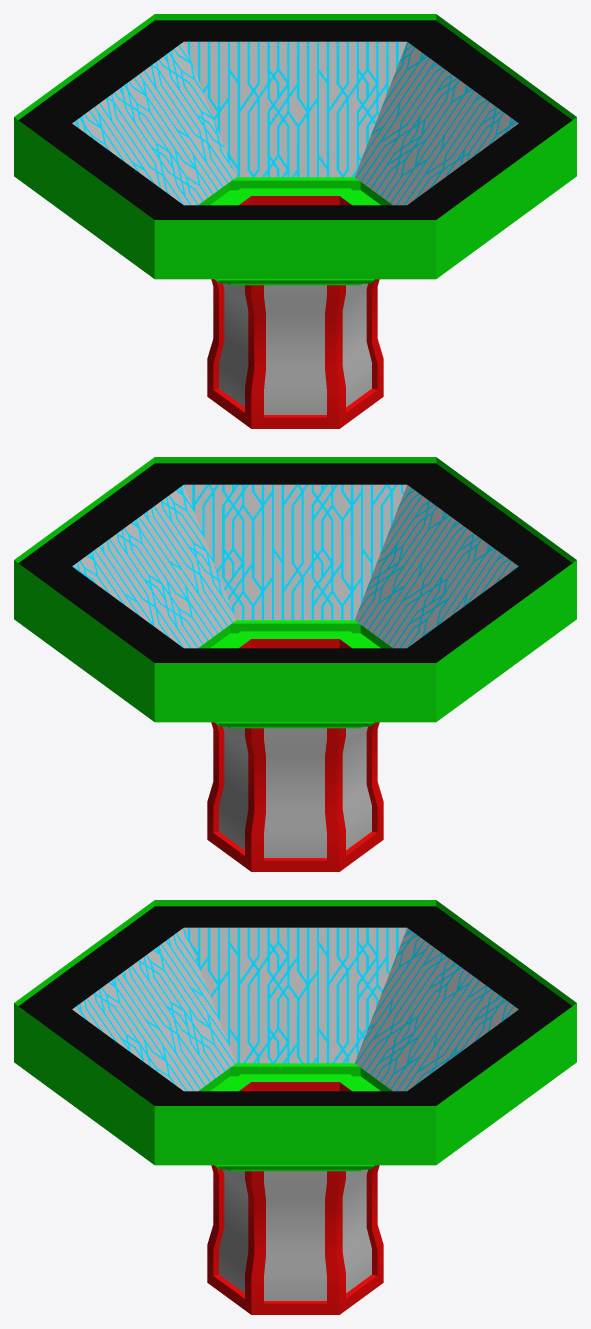
Rendered from SM_Hub_MiddleColumn.fbx.
The picture shows the model from 3 angles, top to bottom: view 1: azimuth 30°, elevation 25°; view 2: azimuth 150°, elevation 25°; view 3: azimuth 270°, elevation 25°; orthographic projection.
Parts seen in each view (by area): view 1: SM_Hub_MiddleColumn; view 2: SM_Hub_MiddleColumn; view 3: SM_Hub_MiddleColumn.
Part boxes in pixels (x1,y1,x2,y2): SM_Hub_MiddleColumn: [14, 14, 576, 428]; SM_Hub_MiddleColumn: [14, 457, 576, 871]; SM_Hub_MiddleColumn: [14, 900, 576, 1314].
Bounding box in the file's own units: 735 × 465 × 848.
